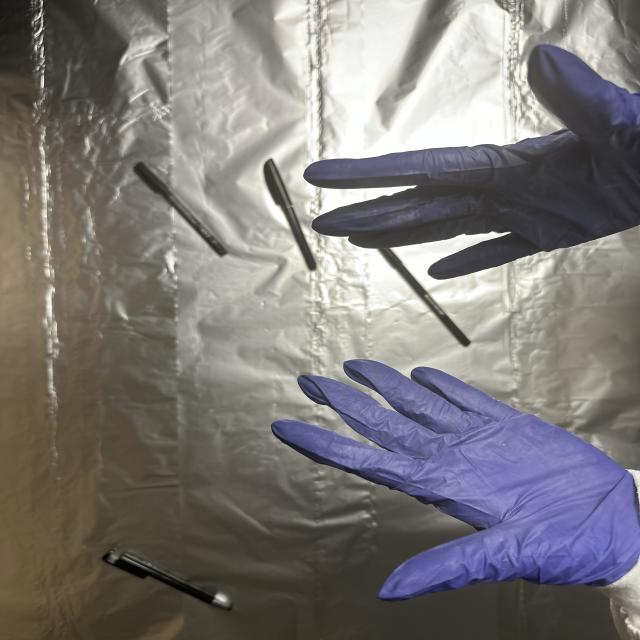gloves_contaminated: (272, 360, 640, 600), (304, 45, 640, 279)
